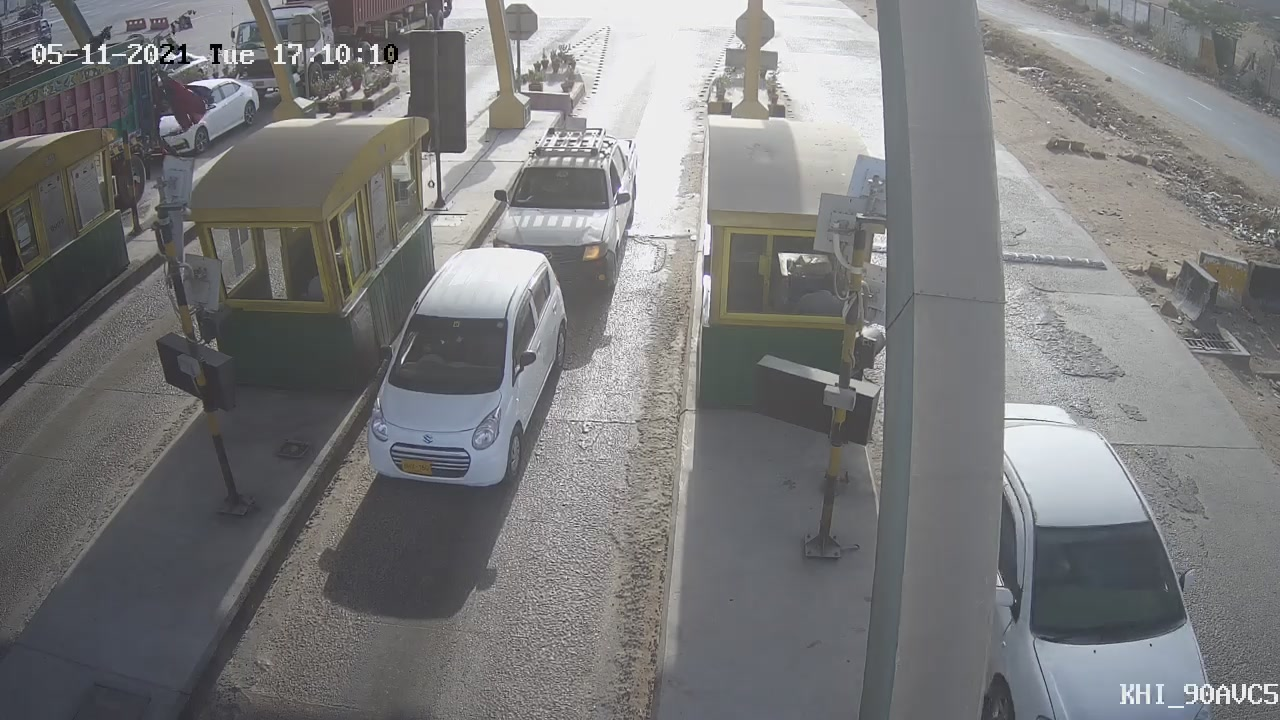F1: (339, 231, 586, 507), (470, 104, 659, 321)
